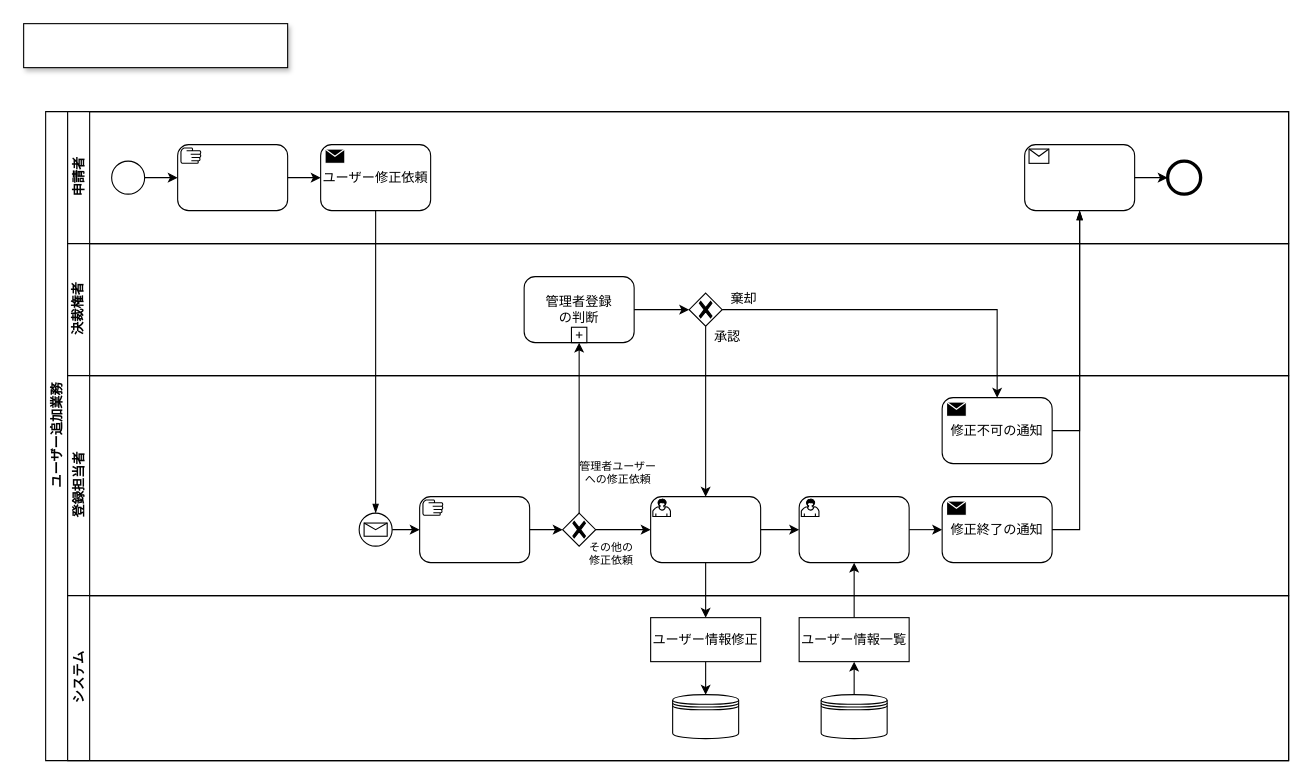
The diagram is 1308 pixels wide and 780 high, and some of its shapes have lost their labels. Each missing label, with the centre of its shape:
"ユーザー 情報 の修正" goes at pixel 705 529.
"ユーザー修正依頼 作成" goes at pixel 232 177.
"ユーザー修正依頼 受付／確認" goes at pixel 474 529.
"ユーザー情報 修正確認" goes at pixel 853 529.
"ユーザー情報修正［102］" goes at pixel 156 46.
"処理結果の受信" goes at pixel 1079 177.
